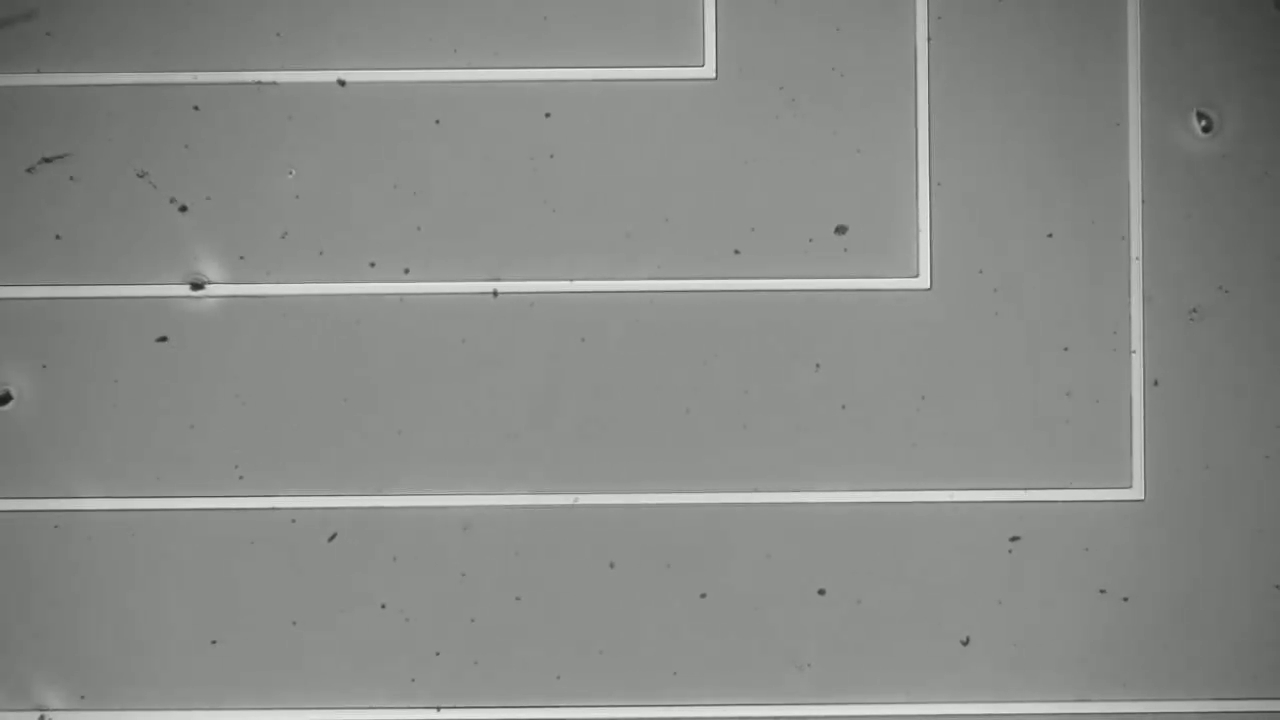stains_enbedded: (180, 271, 217, 303)
